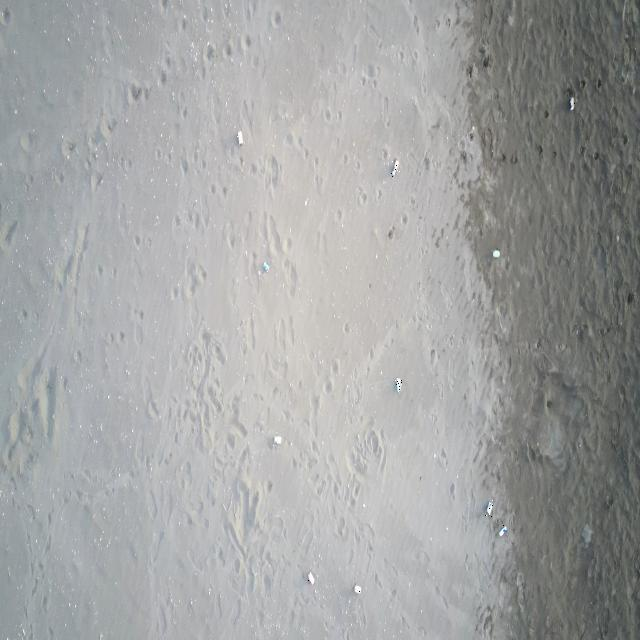tin-and-aluminum-cans: (391, 158, 401, 179), (272, 432, 283, 448), (237, 128, 245, 148), (496, 525, 508, 537), (484, 500, 492, 518), (262, 259, 271, 274), (395, 376, 402, 394), (308, 570, 317, 584), (569, 93, 575, 112), (353, 584, 362, 595), (492, 248, 500, 258)
